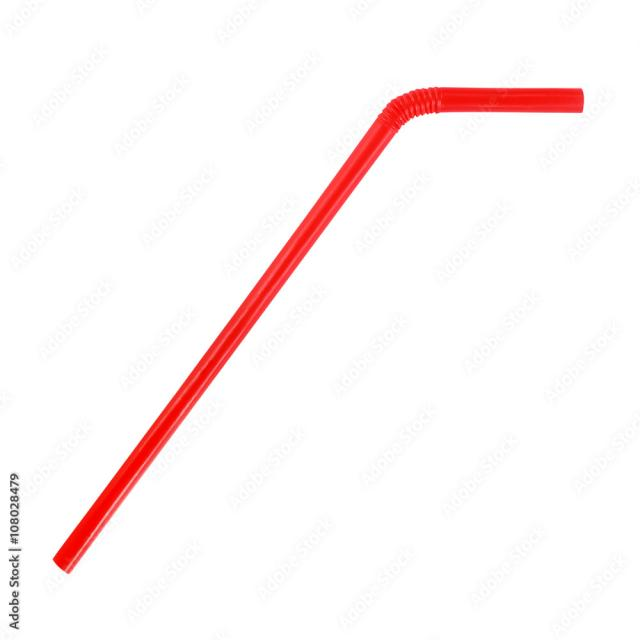plastic: (42, 50, 594, 592)
